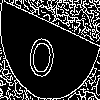O: (25, 25, 60, 82)
